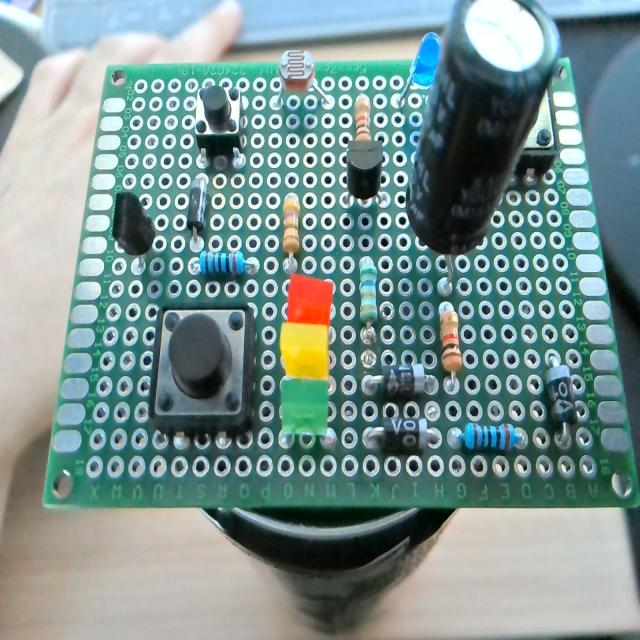Electrolytic capacitor: (403, 0, 564, 292)
cds: (272, 47, 328, 109)
diode: (544, 353, 578, 445), (357, 359, 438, 396), (365, 421, 437, 452), (187, 173, 209, 242)
led: (278, 377, 334, 450), (276, 324, 337, 377), (280, 269, 334, 325)
resistor: (448, 422, 523, 452), (439, 304, 464, 393), (197, 250, 256, 276), (359, 258, 377, 326), (282, 194, 300, 261), (354, 94, 371, 140)
switch: (148, 304, 255, 431), (194, 82, 244, 168)
transistor: (339, 139, 389, 215), (112, 189, 156, 274)
